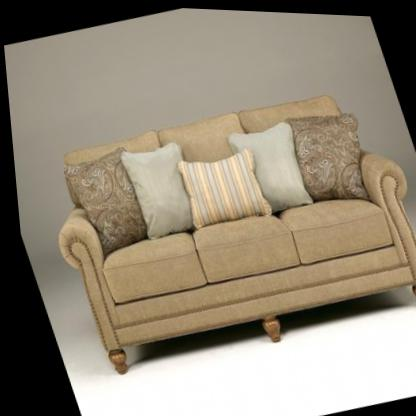Sofa: (18, 62, 416, 393)
